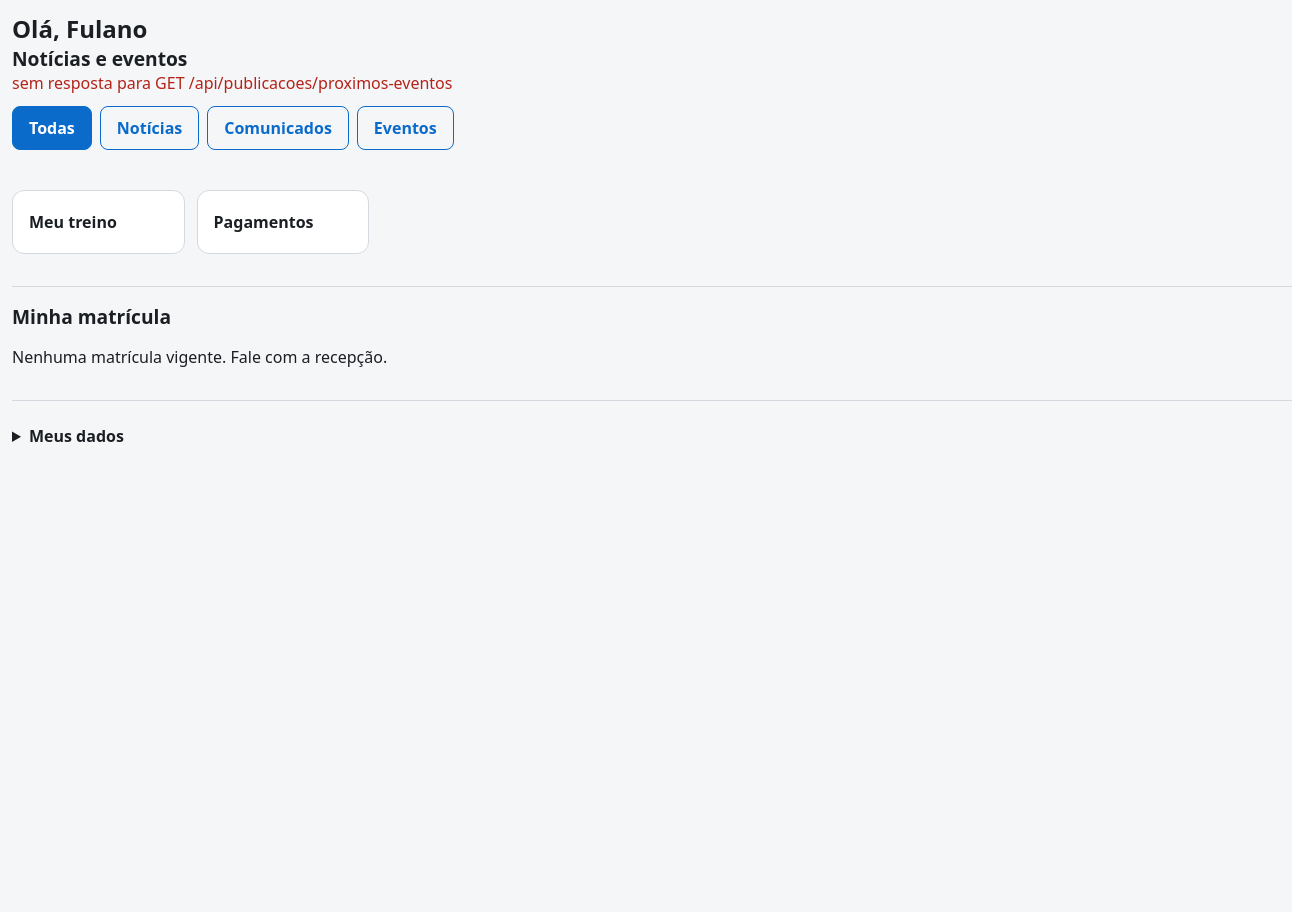
Test: início do aluno › meus dados: carrega só ao abrir
The width and height of the screenshot is (1292, 912).
Expected: the text "Nenhuma matrícula vigente. Fale com a recepção." is shown, top-left (12, 346), bottom-right (387, 368)
Click the heading "Meus dados". click: click(76, 436)
box: top-left (29, 425), bottom-right (124, 447)
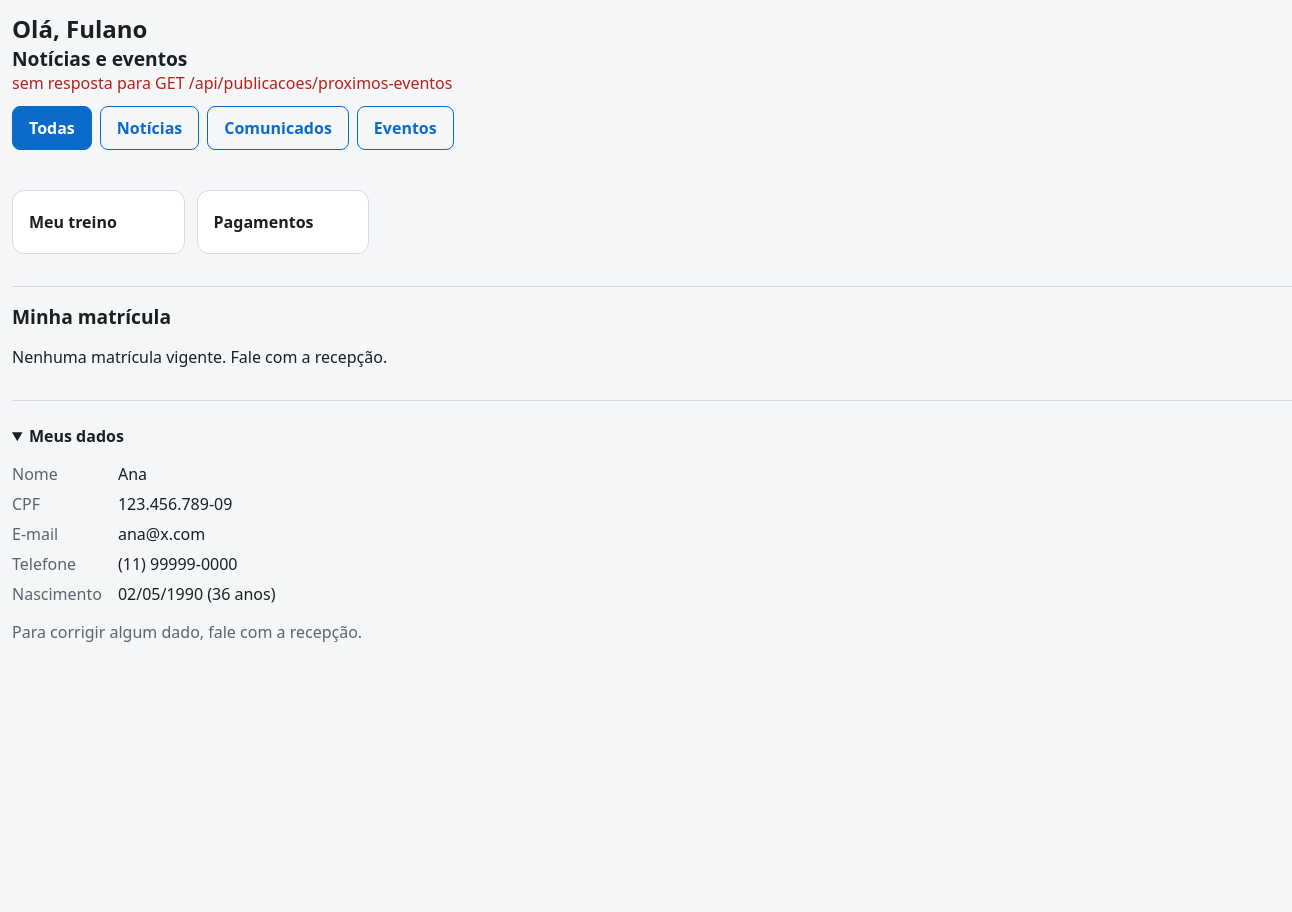
Expected: the text "123.456.789-09" is shown, top-left (118, 493), bottom-right (232, 515)
Expected: the text "(11) 99999-0000" is shown, top-left (118, 553), bottom-right (238, 575)
Expected: the text "02/05/1990 (36 anos)" is shown, top-left (118, 583), bottom-right (276, 605)
